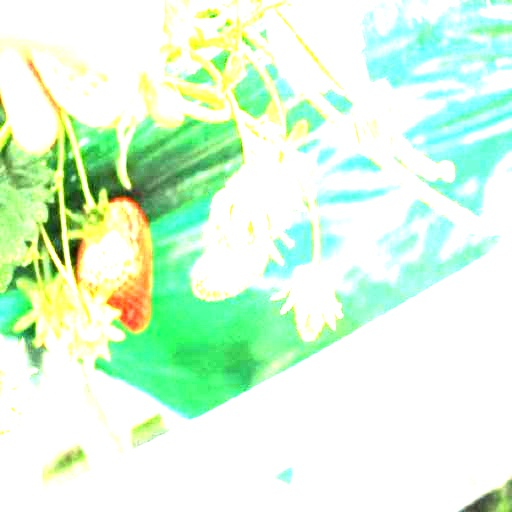Gray Mold: (192, 166, 293, 299)
